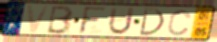B: (45, 5, 75, 36)
C: (166, 9, 193, 37)
D: (137, 7, 166, 37)
F: (77, 6, 109, 36)
U: (107, 7, 136, 36)
V: (26, 4, 52, 34)
